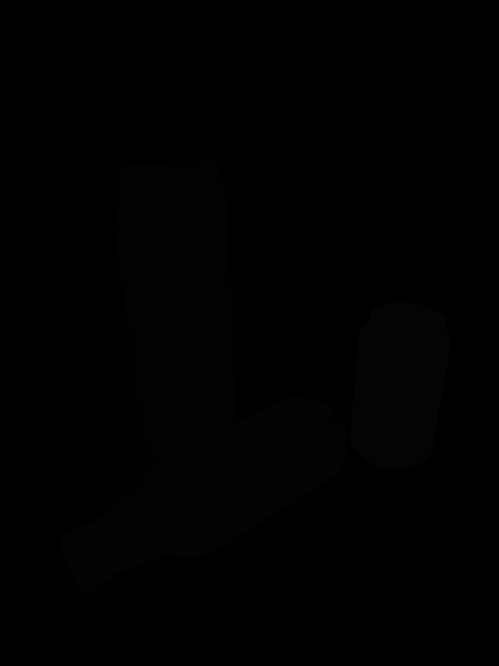can: (348, 300, 453, 475)
carton: (110, 157, 238, 459)
milk_bottle: (32, 247, 153, 513)
water_bottle: (57, 393, 352, 597)
